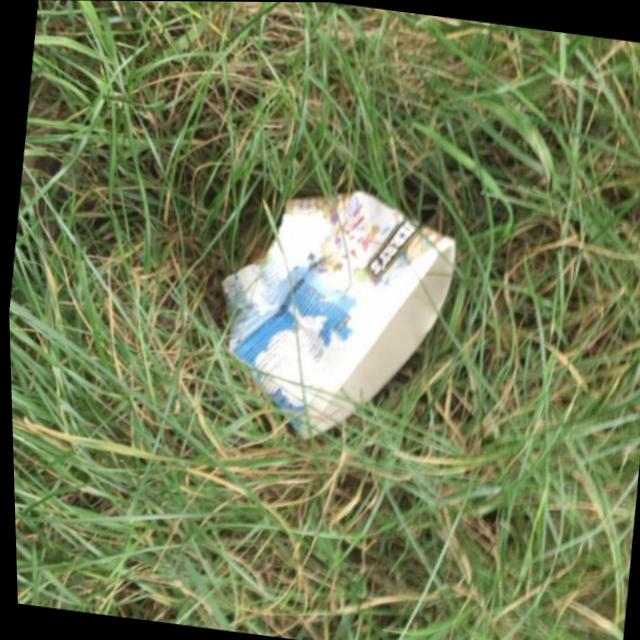Paper: (196, 167, 467, 458)
